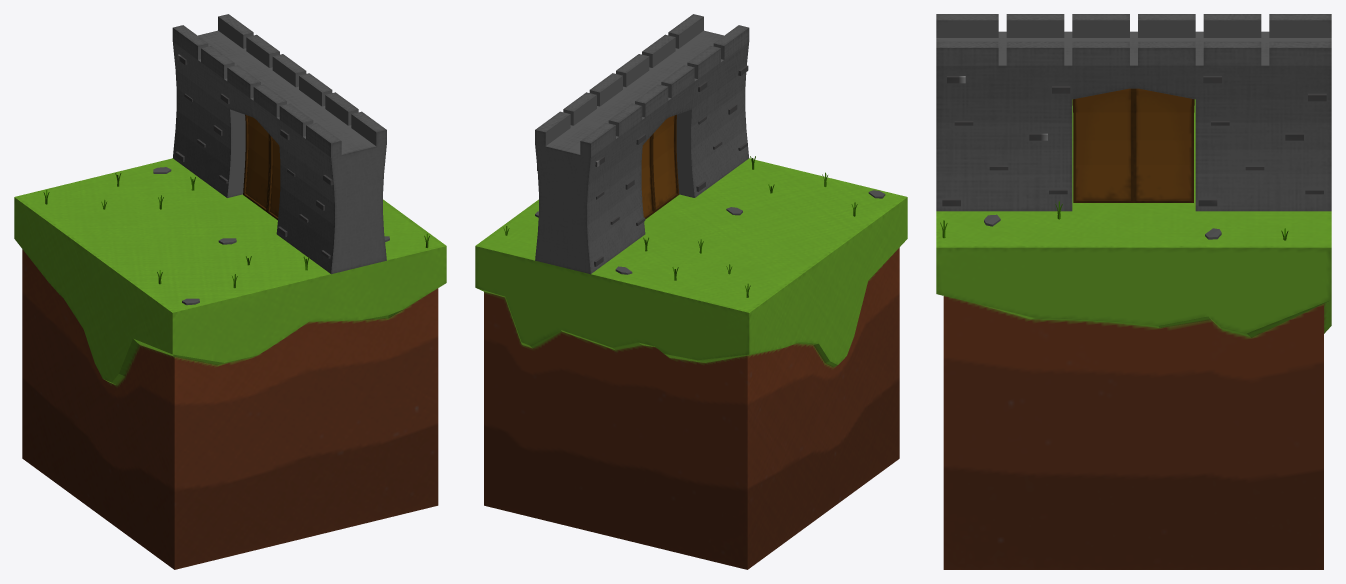
File: Concepts_26.fbx
3 renders of one model, left to right at view 1: azimuth 30°, elevation 25°; view 2: azimuth 150°, elevation 25°; view 3: azimuth 270°, elevation 25°, orthographic. The views are drawn at different scales.
Parts seen in each view (by area): view 1: Cube.237, Cube.019, Cube.241, Cube.240, Cube.279; view 2: Cube.237, Cube.019, Cube.240, Cube.241, Cube.279; view 3: Cube.237, Cube.019, Cube.241, Cube.240, Cube.279.
Part boxes in pixels (left/top/right/bottom): Cube.237: left=14, top=158, right=446, bottom=569; Cube.019: left=172, top=14, right=386, bottom=274; Cube.241: left=243, top=114, right=269, bottom=212; Cube.240: left=267, top=135, right=280, bottom=220; Cube.279: left=43, top=167, right=429, bottom=305; Cube.237: left=475, top=158, right=907, bottom=569; Cube.019: left=535, top=14, right=749, bottom=274; Cube.240: left=652, top=114, right=679, bottom=211; Cube.241: left=641, top=135, right=654, bottom=219; Cube.279: left=503, top=156, right=885, bottom=297; Cube.237: left=936, top=99, right=1331, bottom=569; Cube.019: left=936, top=14, right=1331, bottom=211; Cube.241: left=1133, top=88, right=1194, bottom=202; Cube.240: left=1072, top=88, right=1133, bottom=202; Cube.279: left=940, top=201, right=1288, bottom=240.
Size of the model in its own units: 301 by 411 by 301.
